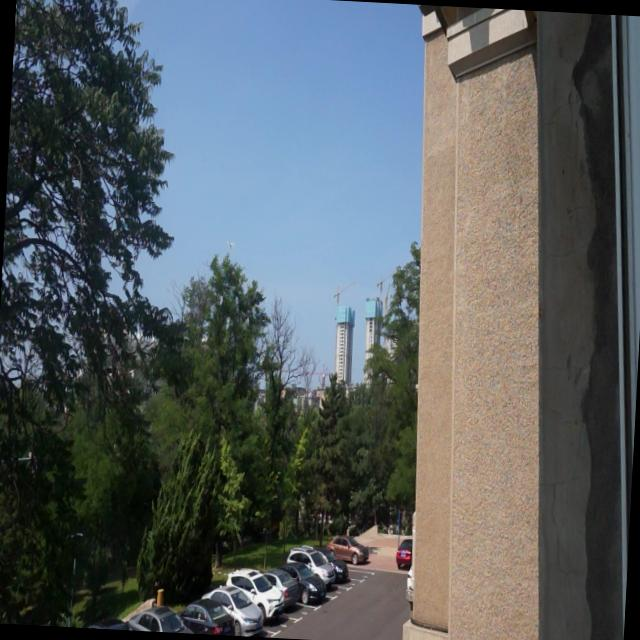drone: (225, 234, 238, 252)
